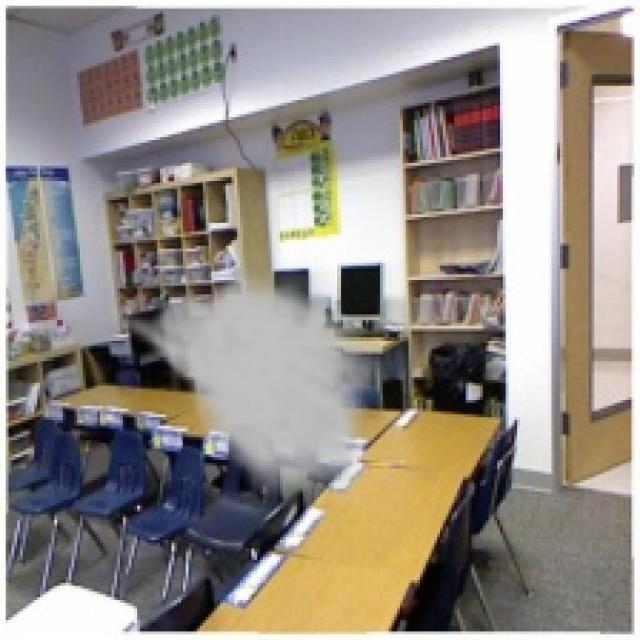Smoke: (103, 263, 380, 508)
